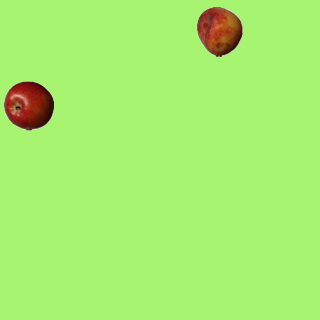Apple Braeburn: (3, 80, 53, 130)
Peach: (194, 6, 244, 56)
